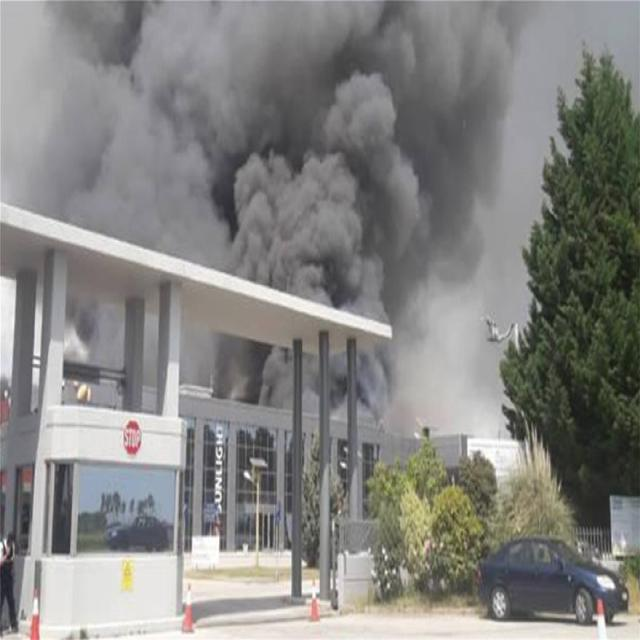Smoke: (44, 0, 536, 336), (245, 324, 392, 417)
